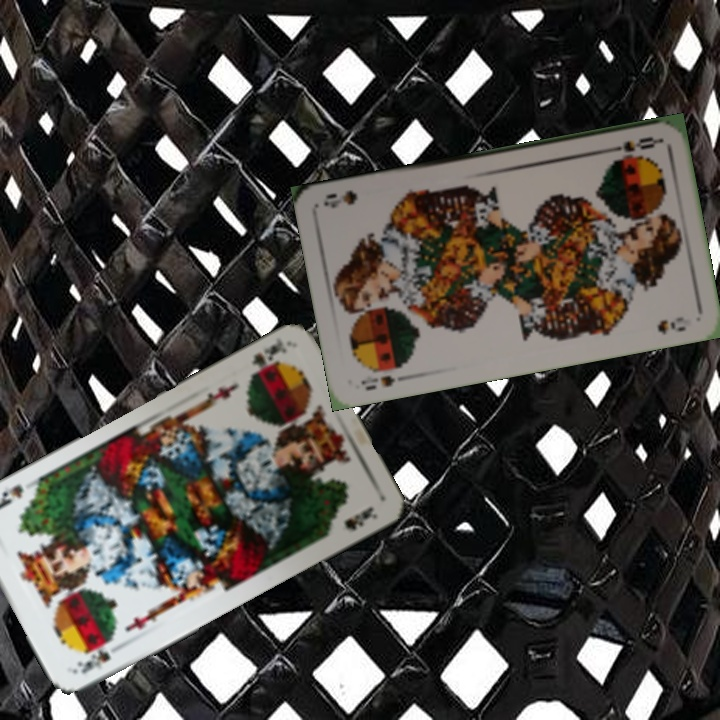SK: (246, 335, 289, 381), (73, 645, 113, 677)
SO: (603, 132, 662, 155), (356, 371, 412, 393)
